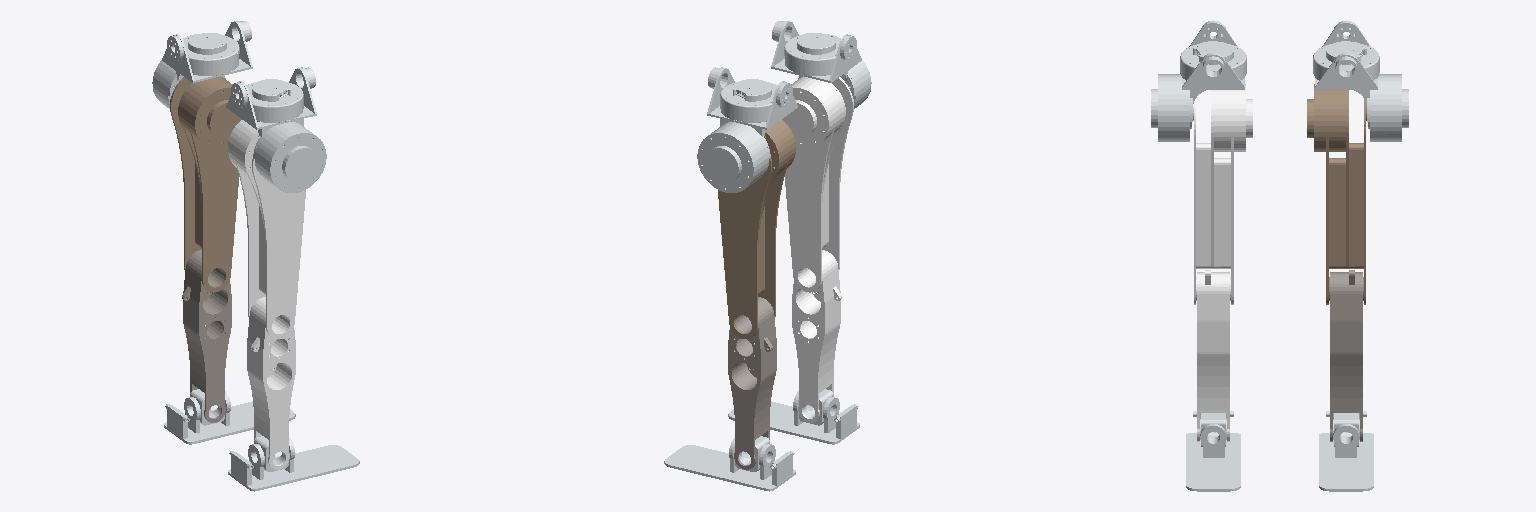
robot.urdf — wr_urdf_v1_5:
<?xml version="1.0" encoding="utf-8"?>
<!-- This URDF was automatically created by SolidWorks to URDF Exporter! Originally created by [author] ([email redacted]) 
     Commit Version: 1.6.0-4-g7f85cfe  Build Version: 1.6.7995.38578
     For more information, please see http://wiki.ros.org/sw_urdf_exporter -->
<robot
  name="wr_urdf_v1_5">


  <link name="base_link">
  </link>
  <joint
    name="base_joint"
    type="fixed">
    <origin
      xyz="0 0 0"
      rpy="0 0 0" />
    <parent
      link="base_link" />
    <child
      link="body_link" />
  </joint>

  <link
    name="body_link">
    <inertial>
      <origin
        xyz="-0.031514 1.7567E-05 -0.05467"
        rpy="0 0 0" />
      <mass
        value="2.2335" />
      <inertia
        ixx="0.012364"
        ixy="-2.333E-07"
        ixz="-0.00050131"
        iyy="0.0081277"
        iyz="-4.2079E-06"
        izz="0.016119" />
    </inertial>
    <visual>
      <origin
        xyz="0 0 0"
        rpy="0 0 0" />
      <geometry>
        <mesh
          filename="package://wr_urdf_v1_5/meshes/base_link.STL" />
      </geometry>
      <material
        name="">
        <color
          rgba="0.89804 0.91765 0.92941 1" />
      </material>
    </visual>
    <collision>
      <origin
        xyz="0 0 0"
        rpy="0 0 0" />
      <geometry>
        <mesh
          filename="package://wr_urdf_v1_5/meshes/base_link.STL" />
      </geometry>
    </collision>
  </link>
  <link
    name="left_thigh_link1">
    <inertial>
      <origin
        xyz="0.060583 -2.948E-05 -0.028215"
        rpy="0 0 0" />
      <mass
        value="0.64575" />
      <inertia
        ixx="0.00071582"
        ixy="-1.3482E-06"
        ixz="1.0358E-05"
        iyy="0.0014387"
        iyz="-3.3748E-07"
        izz="0.0018001" />
    </inertial>
    <visual>
      <origin
        xyz="0 0 0"
        rpy="0 0 0" />
      <geometry>
        <mesh
          filename="package://wr_urdf_v1_5/meshes/left_thigh_link1.STL" />
      </geometry>
      <material
        name="">
        <color
          rgba="0.89804 0.91765 0.92941 1" />
      </material>
    </visual>
    <collision>
      <origin
        xyz="0 0 0"
        rpy="0 0 0" />
      <geometry>
        <mesh
          filename="package://wr_urdf_v1_5/meshes/left_thigh_link1.STL" />
      </geometry>
    </collision>
  </link>
  <joint
    name="left_thigh_roll_joint"
    type="revolute">
    <origin
      xyz="-0.0609 -0.12 -0.06"
      rpy="0 0 0" />
    <parent
      link="body_link" />
    <child
      link="left_thigh_link1" />
    <axis
      xyz="-1 0 0" />
    <limit
      lower="-4"
      upper="4"
      effort="30"
      velocity="30" />
  </joint>
  <link
    name="left_thigh_link2">
    <inertial>
      <origin
        xyz="1.641E-07 -0.065296 -0.049142"
        rpy="0 0 0" />
      <mass
        value="0.88505" />
      <inertia
        ixx="0.001018"
        ixy="-4.4009E-09"
        ixz="-1.4407E-08"
        iyy="0.00147"
        iyz="-2.6804E-05"
        izz="0.0010919" />
    </inertial>
    <visual>
      <origin
        xyz="0 0 0"
        rpy="0 0 0" />
      <geometry>
        <mesh
          filename="package://wr_urdf_v1_5/meshes/left_thigh_link2.STL" />
      </geometry>
      <material
        name="">
        <color
          rgba="0.89804 0.91765 0.92941 1" />
      </material>
    </visual>
    <collision>
      <origin
        xyz="0 0 0"
        rpy="0 0 0" />
      <geometry>
        <mesh
          filename="package://wr_urdf_v1_5/meshes/left_thigh_link2.STL" />
      </geometry>
    </collision>
  </link>
  <joint
    name="left_thigh_yaw_joint"
    type="revolute">
    <origin
      xyz="0.0609999999999999 0 -0.0591"
      rpy="0 0 0" />
    <parent
      link="left_thigh_link1" />
    <child
      link="left_thigh_link2" />
    <axis
      xyz="0 0 -1" />
    <limit
      lower="-4"
      upper="4"
      effort="30"
      velocity="30" />
  </joint>
  <link
    name="left_hip_link">
    <inertial>
      <origin
        xyz="0.0017414 0.040386 -0.11364"
        rpy="0 0 0" />
      <mass
        value="1.9678" />
      <inertia
        ixx="0.013202"
        ixy="-1.1542E-05"
        ixz="-2.6502E-05"
        iyy="0.013336"
        iyz="0.00068877"
        izz="0.002238" />
    </inertial>
    <visual>
      <origin
        xyz="0 0 0"
        rpy="0 0 0" />
      <geometry>
        <mesh
          filename="package://wr_urdf_v1_5/meshes/left_hip_link.STL" />
      </geometry>
      <material
        name="">
        <color
          rgba="1 1 1 1" />
      </material>
    </visual>
    <collision>
      <origin
        xyz="0 0 0"
        rpy="0 0 0" />
      <geometry>
        <mesh
          filename="package://wr_urdf_v1_5/meshes/left_hip_link.STL" />
      </geometry>
    </collision>
  </link>
  <joint
    name="left_hip_joint"
    type="revolute">
    <origin
      xyz="0 -0.0310000000000001 -0.057"
      rpy="0 0 0" />
    <parent
      link="left_thigh_link2" />
    <child
      link="left_hip_link" />
    <axis
      xyz="0 -1 0" />
    <limit
      lower="-4"
      upper="4"
      effort="30"
      velocity="30" />
  </joint>
  <link
    name="left_knee_link">
    <inertial>
      <origin
        xyz="0.00011946 0.013603 -0.12145"
        rpy="0 0 0" />
      <mass
        value="1.1611" />
      <inertia
        ixx="0.0080149"
        ixy="1.3712E-06"
        ixz="-3.5086E-05"
        iyy="0.0081031"
        iyz="3.1224E-05"
        izz="0.0008281" />
    </inertial>
    <visual>
      <origin
        xyz="0 0 0"
        rpy="0 0 0" />
      <geometry>
        <mesh
          filename="package://wr_urdf_v1_5/meshes/left_knee_link.STL" />
      </geometry>
      <material
        name="">
        <color
          rgba="1 1 1 1" />
      </material>
    </visual>
    <collision>
      <origin
        xyz="0 0 0"
        rpy="0 0 0" />
      <geometry>
        <mesh
          filename="package://wr_urdf_v1_5/meshes/left_knee_link.STL" />
      </geometry>
    </collision>
  </link>
  <joint
    name="left_knee_joint"
    type="revolute">
    <origin
      xyz="0 0.0172829947474153 -0.36"
      rpy="0 0 0" />
    <parent
      link="left_hip_link" />
    <child
      link="left_knee_link" />
    <axis
      xyz="0 -1 0" />
    <limit
      lower="-4"
      upper="4"
      effort="30"
      velocity="30" />
  </joint>
  <link
    name="left_ankle_link">
    <inertial>
      <origin
        xyz="-8.3387E-09 -2.1013E-09 5.7293E-09"
        rpy="0 0 0" />
      <mass
        value="0.23627" />
      <inertia
        ixx="0.00011893"
        ixy="2.8354E-12"
        ixz="4.432E-11"
        iyy="0.00014295"
        iyz="-4.0168E-11"
        izz="0.00011484" />
    </inertial>
    <visual>
      <origin
        xyz="0 0 0"
        rpy="0 0 0" />
      <geometry>
        <mesh
          filename="package://wr_urdf_v1_5/meshes/left_ankle_link.STL" />
      </geometry>
      <material
        name="">
        <color
          rgba="0.89804 0.91765 0.92941 1" />
      </material>
    </visual>
    <collision>
      <origin
        xyz="0 0 0"
        rpy="0 0 0" />
      <geometry>
        <mesh
          filename="package://wr_urdf_v1_5/meshes/left_ankle_link.STL" />
      </geometry>
    </collision>
  </link>
  <joint
    name="left_ankle_joint"
    type="revolute">
    <origin
      xyz="0 0.013717 -0.28"
      rpy="0 0 0" />
    <parent
      link="left_knee_link" />
    <child
      link="left_ankle_link" />
    <axis
      xyz="0 -1 0" />
    <limit
      lower="-4"
      upper="4"
      effort="30"
      velocity="30" />
  </joint>
  <link
    name="left_foot_link">
    <inertial>
      <origin
        xyz="0.023416 -1.3878E-17 -0.03328"
        rpy="0 0 0" />
      <mass
        value="0.4822" />
      <inertia
        ixx="0.00043011"
        ixy="-5.5711E-20"
        ixz="0.00021517"
        iyy="0.0025557"
        iyz="5.3225E-20"
        izz="0.0027314" />
    </inertial>
    <visual>
      <origin
        xyz="0 0 0"
        rpy="0 0 0" />
      <geometry>
        <mesh
          filename="package://wr_urdf_v1_5/meshes/left_foot_link.STL" />
      </geometry>
      <material
        name="">
        <color
          rgba="0.89804 0.91765 0.92941 1" />
      </material>
    </visual>
    <collision>
      <origin
        xyz="0 0 0"
        rpy="0 0 0" />
      <geometry>
        <mesh
          filename="package://wr_urdf_v1_5/meshes/left_foot_link.STL" />
      </geometry>
    </collision>
  </link>
  <joint
    name="left_foot_joint"
    type="revolute">
    <origin
      xyz="0 0 0"
      rpy="0 0 0" />
    <parent
      link="left_ankle_link" />
    <child
      link="left_foot_link" />
    <axis
      xyz="-1 0 0" />
    <limit
      lower="-4"
      upper="4"
      effort="30"
      velocity="30" />
  </joint>
  <link
    name="right_thigh_link1">
    <inertial>
      <origin
        xyz="0.060396 9.0244E-05 -0.028215"
        rpy="0 0 0" />
      <mass
        value="0.64575" />
      <inertia
        ixx="0.00071276"
        ixy="-2.8597E-06"
        ixz="9.6396E-06"
        iyy="0.0014418"
        iyz="5.7079E-07"
        izz="0.0018001" />
    </inertial>
    <visual>
      <origin
        xyz="0 0 0"
        rpy="0 0 0" />
      <geometry>
        <mesh
          filename="package://wr_urdf_v1_5/meshes/right_thigh_link1.STL" />
      </geometry>
      <material
        name="">
        <color
          rgba="0.89804 0.91765 0.92941 1" />
      </material>
    </visual>
    <collision>
      <origin
        xyz="0 0 0"
        rpy="0 0 0" />
      <geometry>
        <mesh
          filename="package://wr_urdf_v1_5/meshes/right_thigh_link1.STL" />
      </geometry>
    </collision>
  </link>
  <joint
    name="right_thigh_roll_joint"
    type="revolute">
    <origin
      xyz="-0.0609 0.12 -0.06"
      rpy="0 0 0" />
    <parent
      link="body_link" />
    <child
      link="right_thigh_link1" />
    <axis
      xyz="-1 0 0" />
    <limit
      lower="-4"
      upper="4"
      effort="30"
      velocity="30" />
  </joint>
  <link
    name="right_thigh_link2">
    <inertial>
      <origin
        xyz="1.641E-07 0.065296 -0.049142"
        rpy="0 0 0" />
      <mass
        value="0.88505" />
      <inertia
        ixx="0.001018"
        ixy="4.4009E-09"
        ixz="-1.4407E-08"
        iyy="0.00147"
        iyz="2.6804E-05"
        izz="0.0010919" />
    </inertial>
    <visual>
      <origin
        xyz="0 0 0"
        rpy="0 0 0" />
      <geometry>
        <mesh
          filename="package://wr_urdf_v1_5/meshes/right_thigh_link2.STL" />
      </geometry>
      <material
        name="">
        <color
          rgba="0.89804 0.91765 0.92941 1" />
      </material>
    </visual>
    <collision>
      <origin
        xyz="0 0 0"
        rpy="0 0 0" />
      <geometry>
        <mesh
          filename="package://wr_urdf_v1_5/meshes/right_thigh_link2.STL" />
      </geometry>
    </collision>
  </link>
  <joint
    name="right_thigh_yaw_joint"
    type="revolute">
    <origin
      xyz="0.061 0 -0.0591"
      rpy="0 0 0" />
    <parent
      link="right_thigh_link1" />
    <child
      link="right_thigh_link2" />
    <axis
      xyz="0 0 -1" />
    <limit
      lower="-4"
      upper="4"
      effort="30"
      velocity="30" />
  </joint>
  <link
    name="right_hip_link">
    <inertial>
      <origin
        xyz="0.0017414 -0.040386 -0.11364"
        rpy="0 0 0" />
      <mass
        value="1.9678" />
      <inertia
        ixx="0.013202"
        ixy="1.1542E-05"
        ixz="-2.6502E-05"
        iyy="0.013336"
        iyz="-0.00068877"
        izz="0.002238" />
    </inertial>
    <visual>
      <origin
        xyz="0 0 0"
        rpy="0 0 0" />
      <geometry>
        <mesh
          filename="package://wr_urdf_v1_5/meshes/right_hip_link.STL" />
      </geometry>
      <material
        name="">
        <color
          rgba="0.6902 0.61176 0.52941 1" />
      </material>
    </visual>
    <collision>
      <origin
        xyz="0 0 0"
        rpy="0 0 0" />
      <geometry>
        <mesh
          filename="package://wr_urdf_v1_5/meshes/right_hip_link.STL" />
      </geometry>
    </collision>
  </link>
  <joint
    name="right_hip_joint"
    type="revolute">
    <origin
      xyz="0 0.031 -0.057"
      rpy="0 0 0" />
    <parent
      link="right_thigh_link2" />
    <child
      link="right_hip_link" />
    <axis
      xyz="0 -1 0" />
    <limit
      lower="-4"
      upper="4"
      effort="30"
      velocity="30" />
  </joint>
  <link
    name="right_knee_link">
    <inertial>
      <origin
        xyz="0.00011946 -0.019483 -0.12145"
        rpy="0 0 0" />
      <mass
        value="1.1611" />
      <inertia
        ixx="0.0080149"
        ixy="-1.3712E-06"
        ixz="-3.5086E-05"
        iyy="0.0081031"
        iyz="-3.1224E-05"
        izz="0.0008281" />
    </inertial>
    <visual>
      <origin
        xyz="0 0 0"
        rpy="0 0 0" />
      <geometry>
        <mesh
          filename="package://wr_urdf_v1_5/meshes/right_knee_link.STL" />
      </geometry>
      <material
        name="">
        <color
          rgba="0.68627 0.65882 0.63922 1" />
      </material>
    </visual>
    <collision>
      <origin
        xyz="0 0 0"
        rpy="0 0 0" />
      <geometry>
        <mesh
          filename="package://wr_urdf_v1_5/meshes/right_knee_link.STL" />
      </geometry>
    </collision>
  </link>
  <joint
    name="right_knee_joint"
    type="revolute">
    <origin
      xyz="0 -0.011403 -0.36"
      rpy="0 0 0" />
    <parent
      link="right_hip_link" />
    <child
      link="right_knee_link" />
    <axis
      xyz="0 -1 0" />
    <limit
      lower="-4"
      upper="4"
      effort="30"
      velocity="30" />
  </joint>
  <link
    name="right_ankle_link">
    <inertial>
      <origin
        xyz="-8.3387E-09 2.1013E-09 -5.7293E-09"
        rpy="0 0 0" />
      <mass
        value="0.23627" />
      <inertia
        ixx="0.00011893"
        ixy="-2.8354E-12"
        ixz="-4.432E-11"
        iyy="0.00014295"
        iyz="-4.0168E-11"
        izz="0.00011484" />
    </inertial>
    <visual>
      <origin
        xyz="0 0 0"
        rpy="0 0 0" />
      <geometry>
        <mesh
          filename="package://wr_urdf_v1_5/meshes/right_ankle_link.STL" />
      </geometry>
      <material
        name="">
        <color
          rgba="0.89804 0.91765 0.92941 1" />
      </material>
    </visual>
    <collision>
      <origin
        xyz="0 0 0"
        rpy="0 0 0" />
      <geometry>
        <mesh
          filename="package://wr_urdf_v1_5/meshes/right_ankle_link.STL" />
      </geometry>
    </collision>
  </link>
  <joint
    name="right_ankle_joint"
    type="revolute">
    <origin
      xyz="0 -0.019597 -0.28"
      rpy="0 0 0" />
    <parent
      link="right_knee_link" />
    <child
      link="right_ankle_link" />
    <axis
      xyz="0 -1 0" />
    <limit
      lower="-4"
      upper="4"
      effort="30"
      velocity="30" />
  </joint>
  <link
    name="right_foot_link">
    <inertial>
      <origin
        xyz="0.023416 2.7756E-17 -0.03328"
        rpy="0 0 0" />
      <mass
        value="0.4822" />
      <inertia
        ixx="0.00043011"
        ixy="2.2094E-20"
        ixz="0.00021517"
        iyy="0.0025557"
        iyz="-1.6707E-20"
        izz="0.0027314" />
    </inertial>
    <visual>
      <origin
        xyz="0 0 0"
        rpy="0 0 0" />
      <geometry>
        <mesh
          filename="package://wr_urdf_v1_5/meshes/right_foot_link.STL" />
      </geometry>
      <material
        name="">
        <color
          rgba="0.89804 0.91765 0.92941 1" />
      </material>
    </visual>
    <collision>
      <origin
        xyz="0 0 0"
        rpy="0 0 0" />
      <geometry>
        <mesh
          filename="package://wr_urdf_v1_5/meshes/right_foot_link.STL" />
      </geometry>
    </collision>
  </link>
  <joint
    name="right_foot_joint"
    type="revolute">
    <origin
      xyz="0 0 0"
      rpy="0 0 0" />
    <parent
      link="right_ankle_link" />
    <child
      link="right_foot_link" />
    <axis
      xyz="-1 0 0" />
    <limit
      lower="-4"
      upper="4"
      effort="30"
      velocity="30" />
  </joint>
</robot>

--- What the picture shows (computed from the rendered views, not written in the file) ---
3 views of the same robot in one strip: view 1: azimuth 30°, elevation 25°; view 2: azimuth 150°, elevation 25°; view 3: azimuth 270°, elevation 25° (orthographic).
Robot: wr_urdf_v1_5 — 14 links, 13 joints (12 revolute, 1 fixed); root link base_link; default pose: all joints at 0.
Visible links, largest first — view 1: right_hip_link, left_hip_link, right_knee_link, left_knee_link, left_thigh_link2, left_thigh_link1, right_thigh_link1, left_foot_link, right_foot_link, right_thigh_link2; view 2: left_hip_link, right_hip_link, left_knee_link, right_knee_link, right_thigh_link2, right_thigh_link1, left_thigh_link1, right_foot_link, left_foot_link, left_thigh_link2; view 3: left_hip_link, right_hip_link, left_knee_link, right_knee_link, left_thigh_link1, right_thigh_link1, right_foot_link, left_foot_link, left_thigh_link2, right_thigh_link2, left_ankle_link, right_ankle_link.
Boxes of the visible links, left/top/right/bottom form: right_hip_link: left=170, top=76, right=241, bottom=292; left_hip_link: left=228, top=120, right=305, bottom=338; right_knee_link: left=182, top=250, right=231, bottom=422; left_knee_link: left=247, top=297, right=295, bottom=469; left_thigh_link2: left=253, top=119, right=326, bottom=192; left_thigh_link1: left=226, top=67, right=316, bottom=129; right_thigh_link1: left=162, top=21, right=252, bottom=82; left_foot_link: left=228, top=438, right=359, bottom=491; right_foot_link: left=164, top=391, right=295, bottom=444; right_thigh_link2: left=152, top=60, right=225, bottom=108; left_hip_link: left=782, top=76, right=853, bottom=292; right_hip_link: left=718, top=120, right=795, bottom=338; left_knee_link: left=792, top=250, right=841, bottom=422; right_knee_link: left=728, top=297, right=776, bottom=469; right_thigh_link2: left=697, top=119, right=770, bottom=192; right_thigh_link1: left=707, top=67, right=797, bottom=129; left_thigh_link1: left=771, top=21, right=861, bottom=82; right_foot_link: left=664, top=438, right=795, bottom=491; left_foot_link: left=728, top=391, right=859, bottom=444; left_thigh_link2: left=798, top=60, right=871, bottom=108; left_hip_link: left=1193, top=84, right=1252, bottom=304; right_hip_link: left=1307, top=84, right=1366, bottom=304; left_knee_link: left=1197, top=270, right=1229, bottom=441; right_knee_link: left=1330, top=270, right=1362, bottom=441; left_thigh_link1: left=1180, top=20, right=1246, bottom=89; right_thigh_link1: left=1313, top=20, right=1379, bottom=89; right_foot_link: left=1319, top=411, right=1373, bottom=491; left_foot_link: left=1186, top=411, right=1240, bottom=491; left_thigh_link2: left=1151, top=74, right=1205, bottom=141; right_thigh_link2: left=1354, top=74, right=1408, bottom=141; left_ankle_link: left=1200, top=413, right=1226, bottom=446; right_ankle_link: left=1333, top=413, right=1359, bottom=446.
Bounding box of the posed robot: 0.244 × 0.466 × 0.8261 m (x, y, z).
Meshes: 13 distinct files referenced, 12 mesh visuals loaded (12 binary STL); not drawn: 1 (reference not matched to a file when rendering).